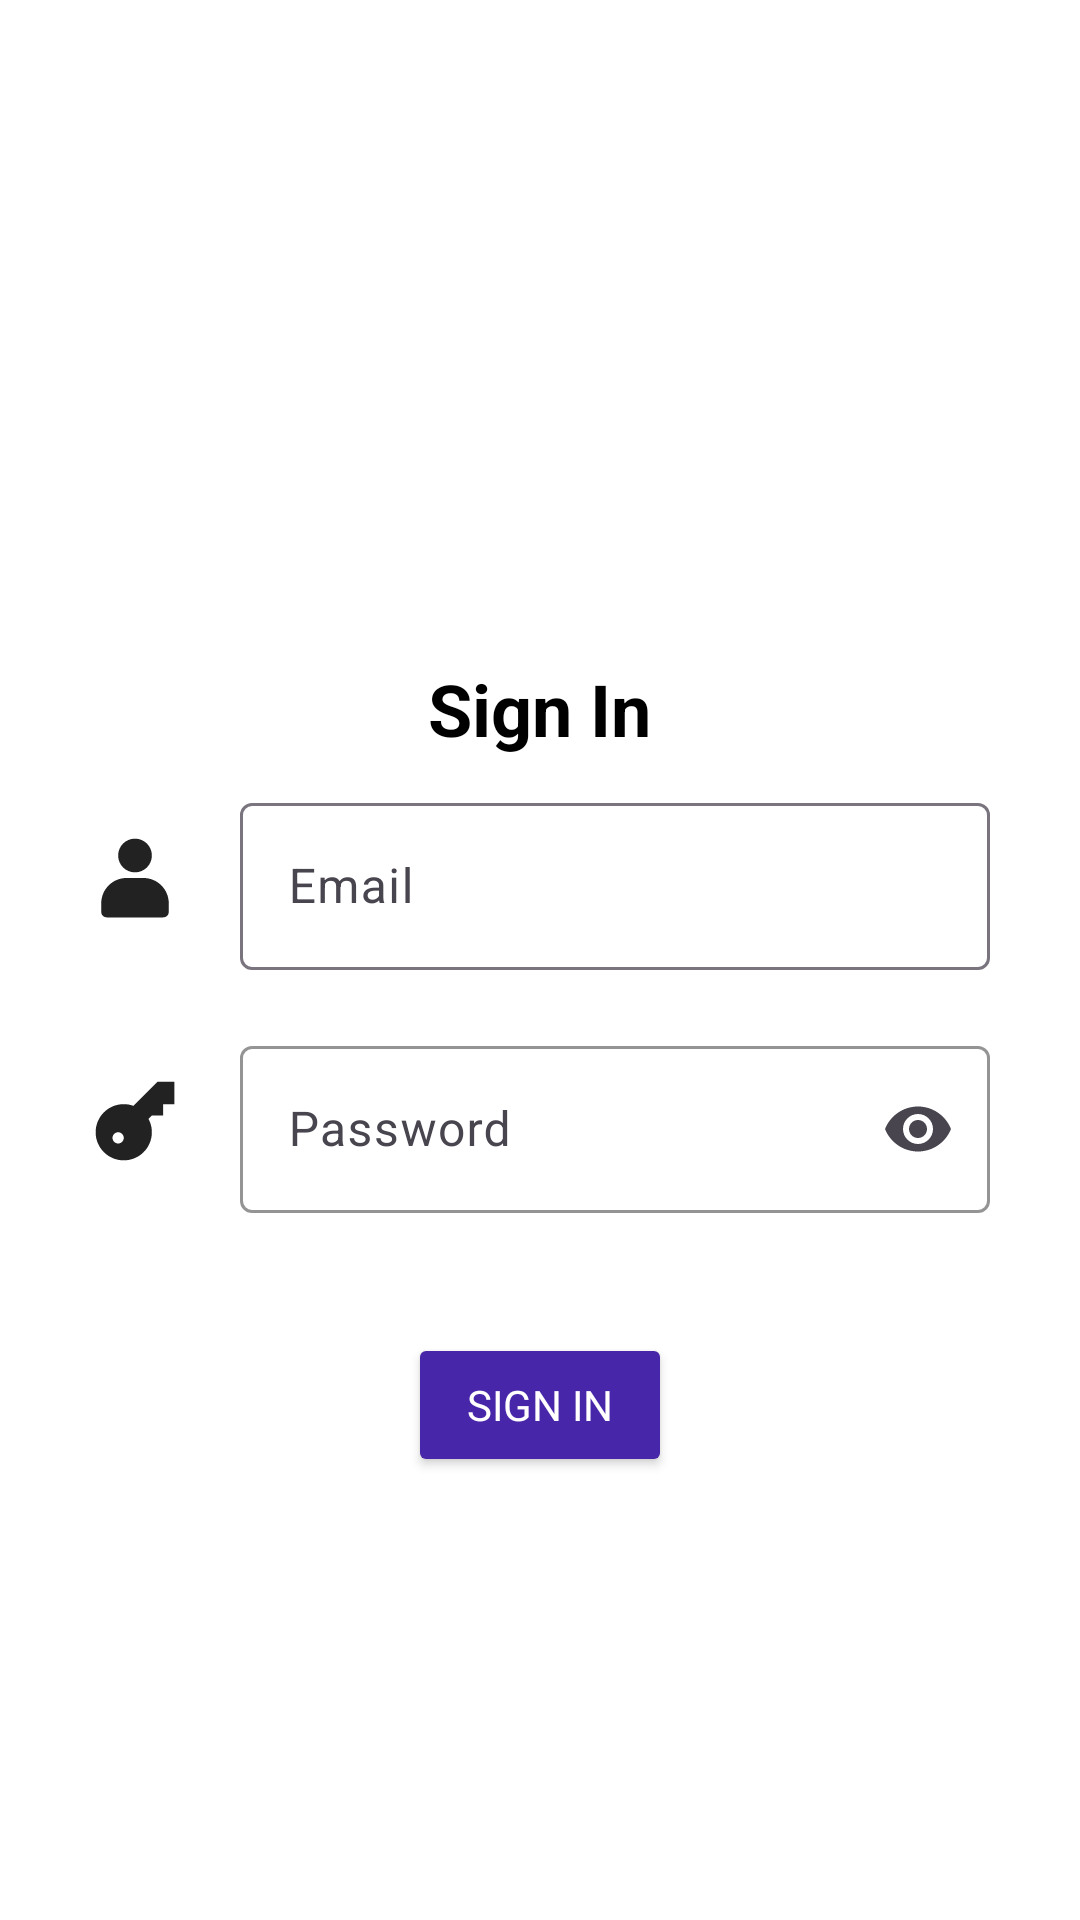

Named icons in this screenshot (1080w x 1920h) and their centers, [x,y]:
profile: [135,878]
